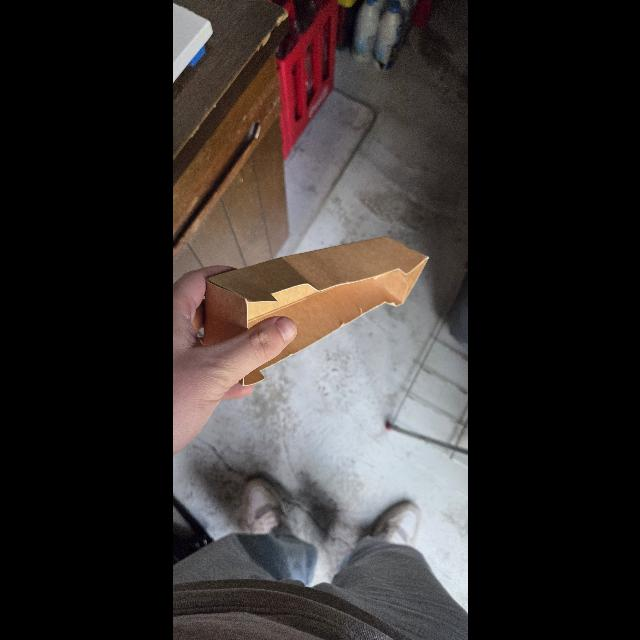Cardboard: (201, 237, 431, 379)
